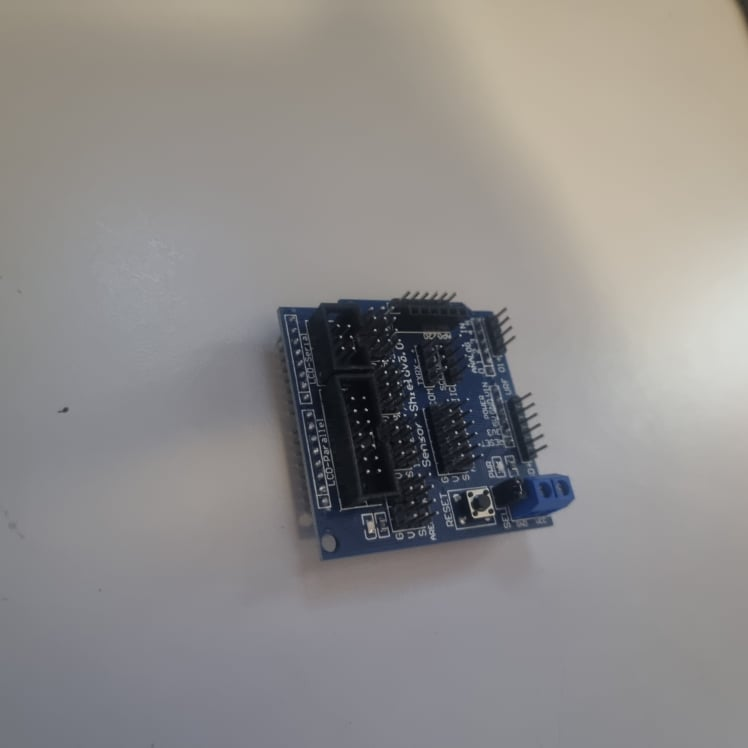5V EXPANSION: (273, 291, 580, 561)
